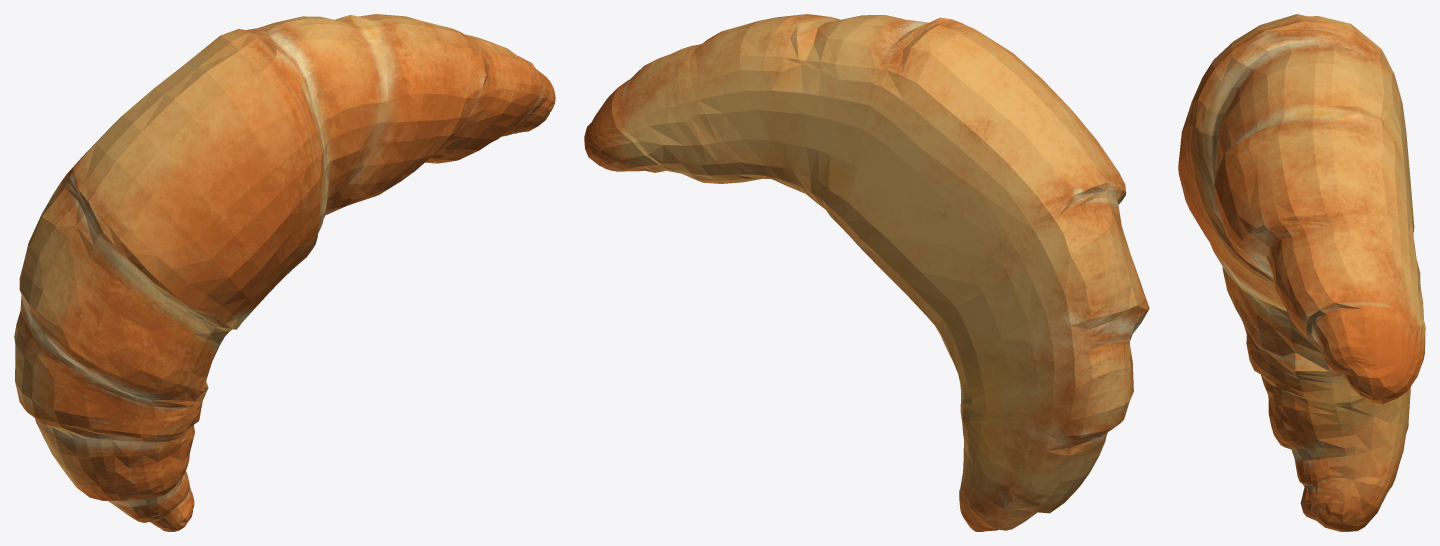
The model's file is croissant.obj.
3 views of the same model, side by side, from view 1: azimuth 30°, elevation 25°; view 2: azimuth 150°, elevation 25°; view 3: azimuth 270°, elevation 25° (orthographic). The views are drawn at different scales.
Parts seen in each view (by area): view 1: Object.1; view 2: Object.1; view 3: Object.1.
Boxes of the visible parts, box(x1,y1,x2,y2) form: Object.1: box(14, 14, 555, 531); Object.1: box(584, 14, 1149, 531); Object.1: box(1178, 14, 1425, 531).
Size of the model in its own units: 0.5938 by 0.5119 by 0.2102.
1 material, 1 textured.
